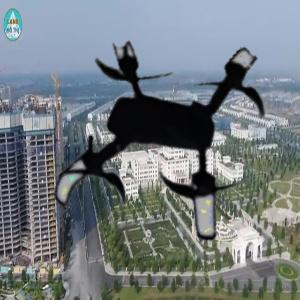drone: (41, 24, 290, 273)
